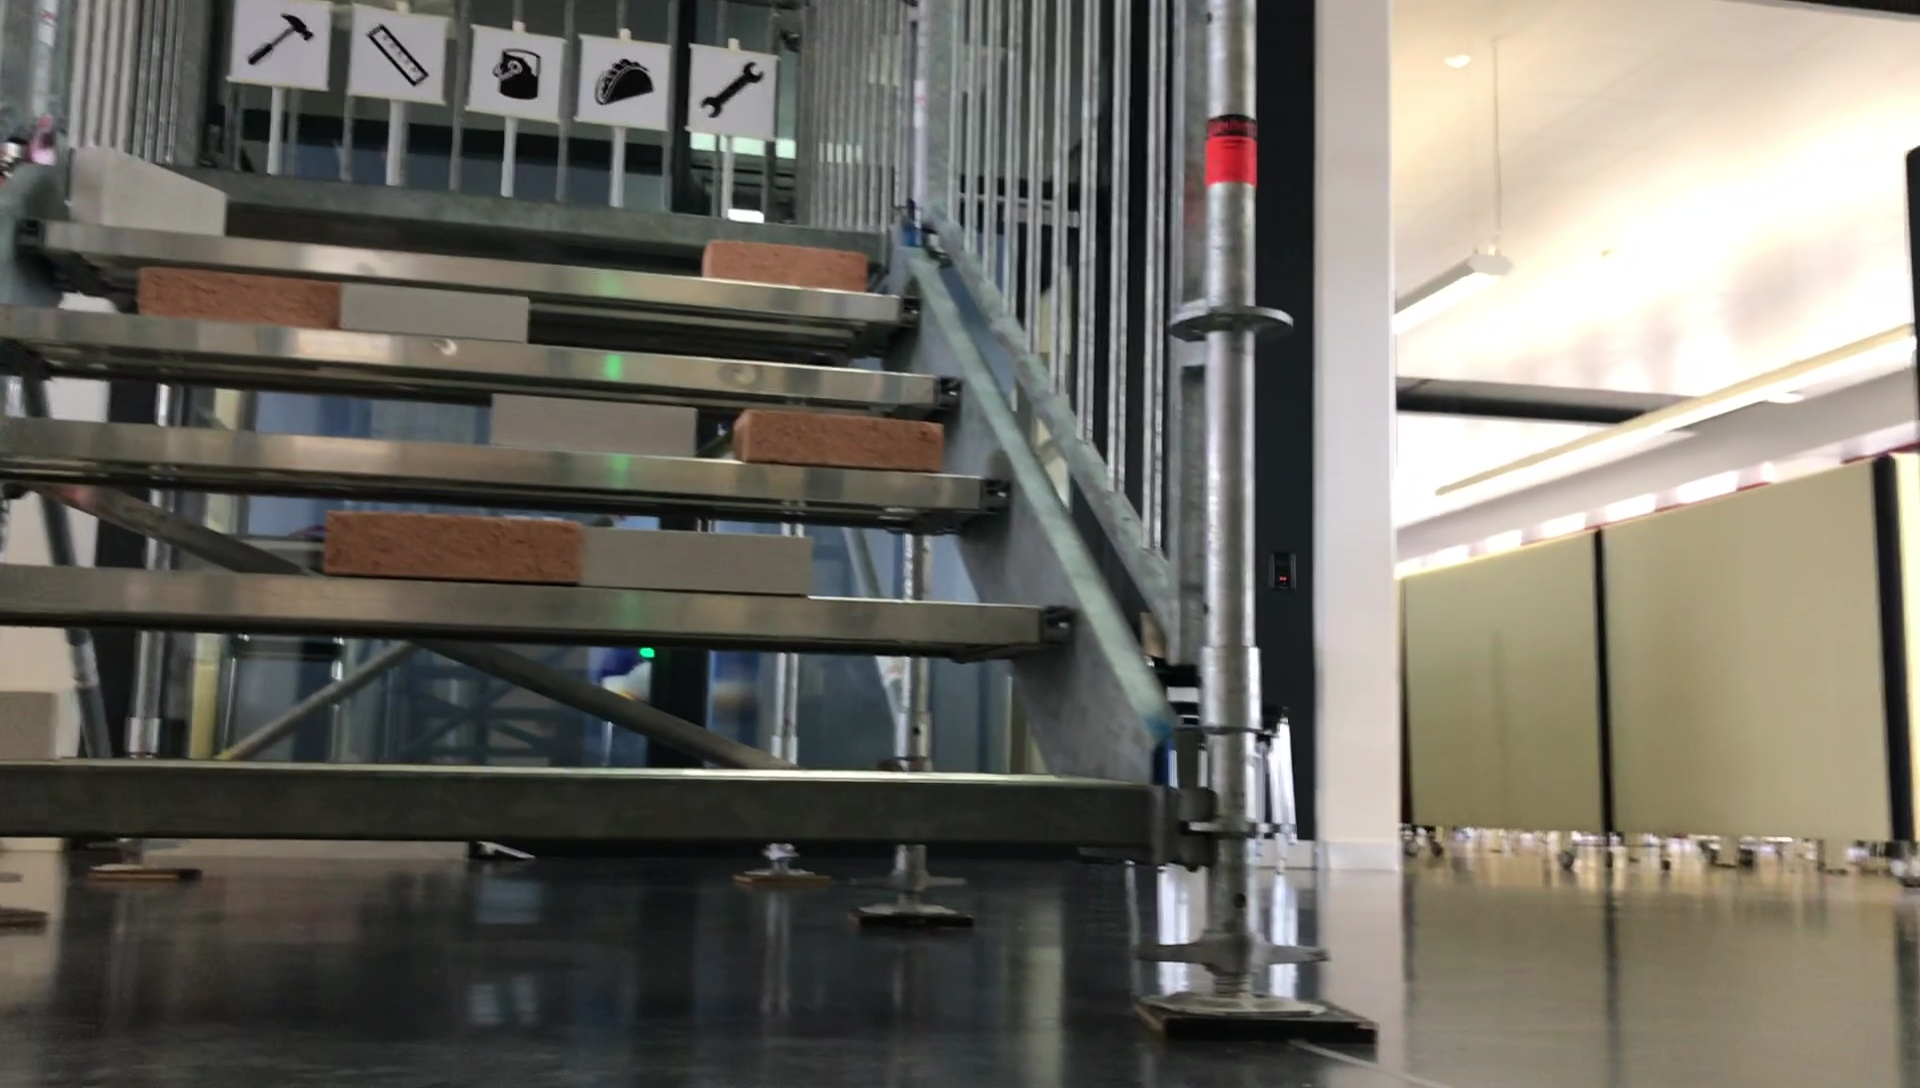brick: (309, 505, 564, 584), (568, 528, 828, 586), (495, 386, 695, 454), (74, 152, 233, 229), (738, 411, 961, 462), (338, 284, 531, 328), (145, 278, 326, 324), (691, 251, 872, 289)
bucket: (489, 46, 539, 109)
edge: (0, 773, 1170, 839), (0, 586, 1073, 636), (18, 252, 910, 307), (0, 342, 975, 386), (0, 435, 1026, 471), (69, 198, 894, 232)
hammer: (243, 13, 313, 70)
ruler: (365, 22, 433, 88)
stairs: (0, 0, 1269, 1041)
steps: (0, 160, 1220, 876)
taco: (592, 62, 655, 106)
wrench: (702, 62, 771, 121)
